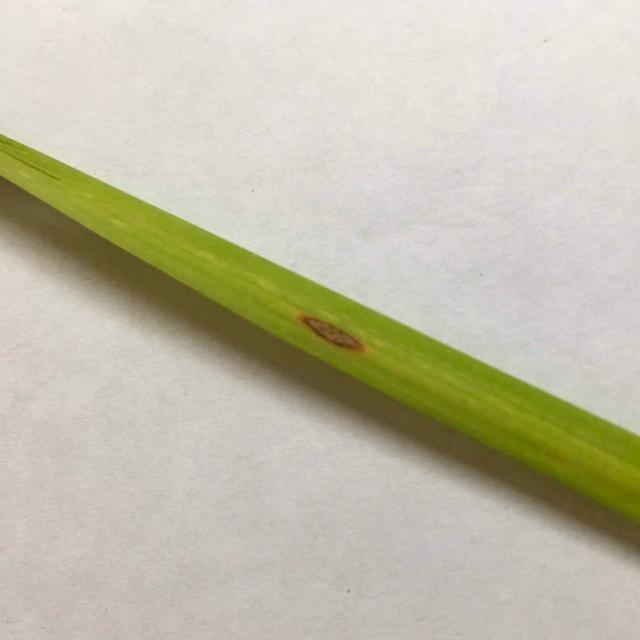Blast: (298, 314, 371, 358)
